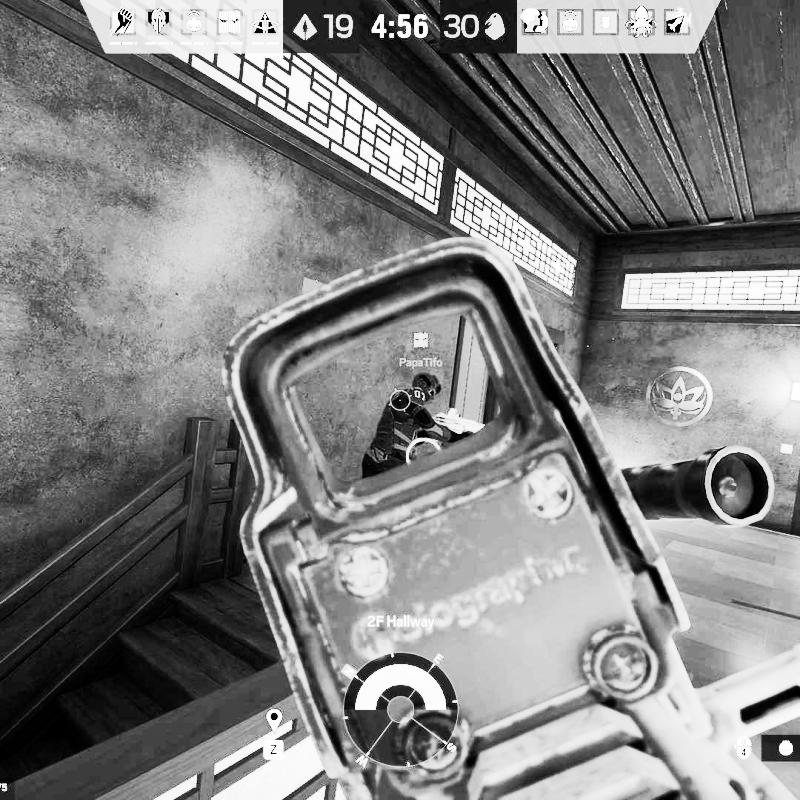Character: (360, 364, 476, 472)
Friend_label: (396, 330, 446, 369)
Head: (411, 371, 442, 400)
